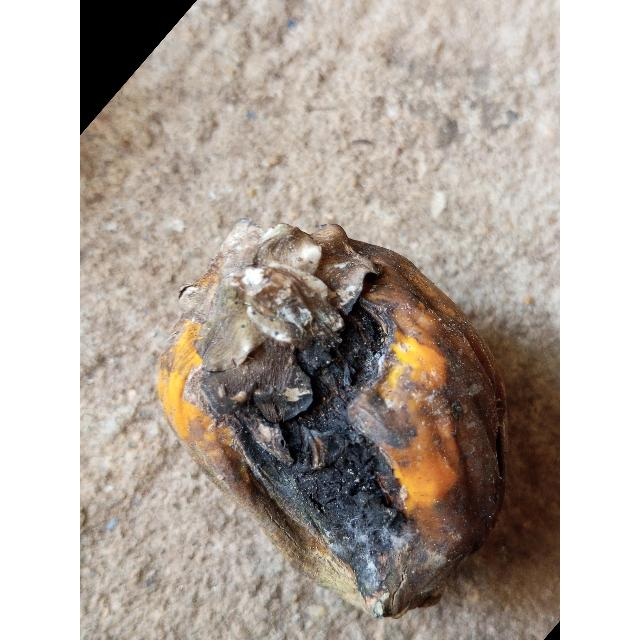damaged: (158, 219, 507, 617)
